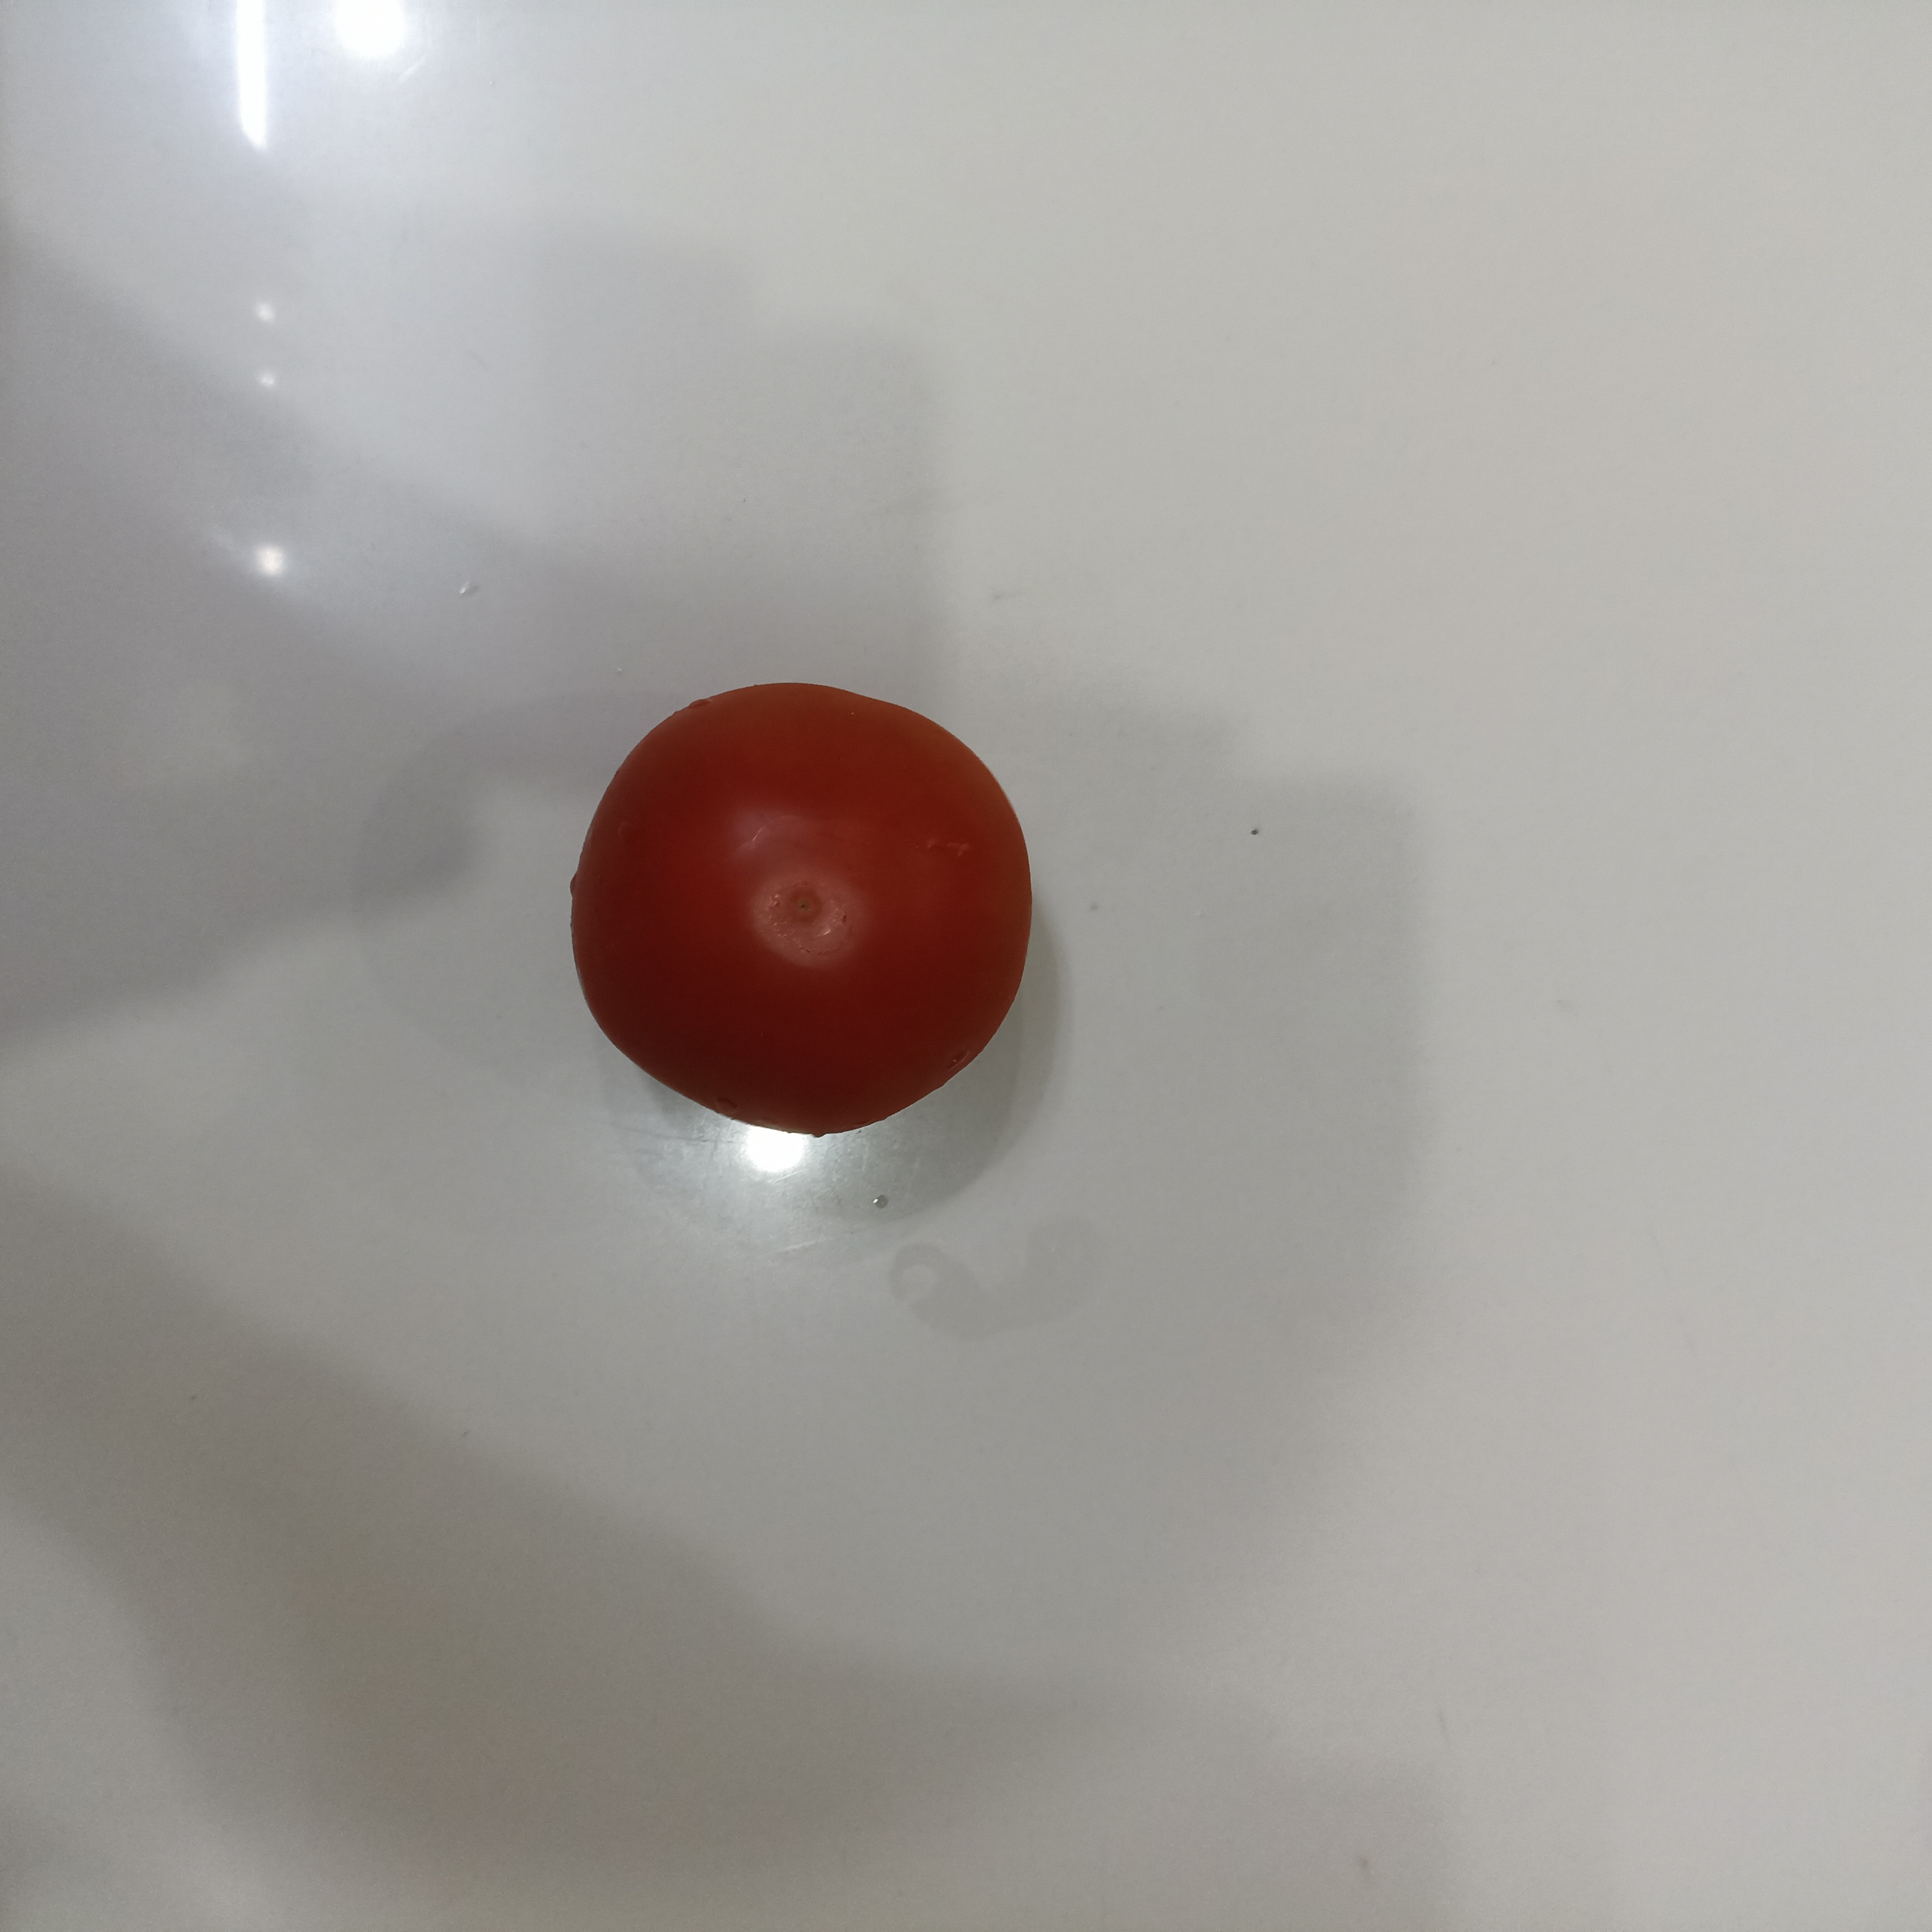Ca chua: (561, 679, 1030, 1132)
